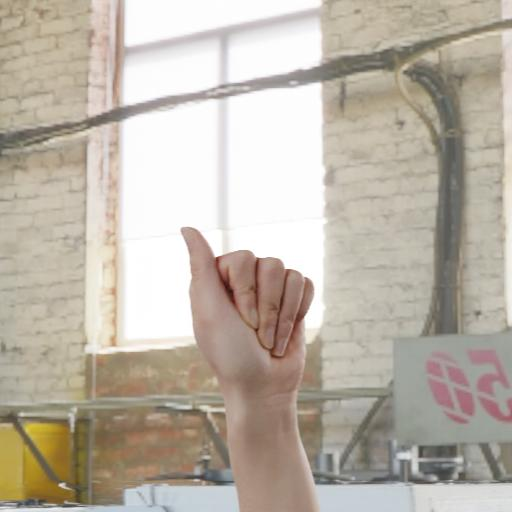A: (161, 215, 341, 500)
